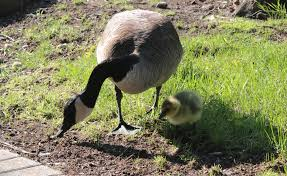goose: (55, 8, 186, 143)
